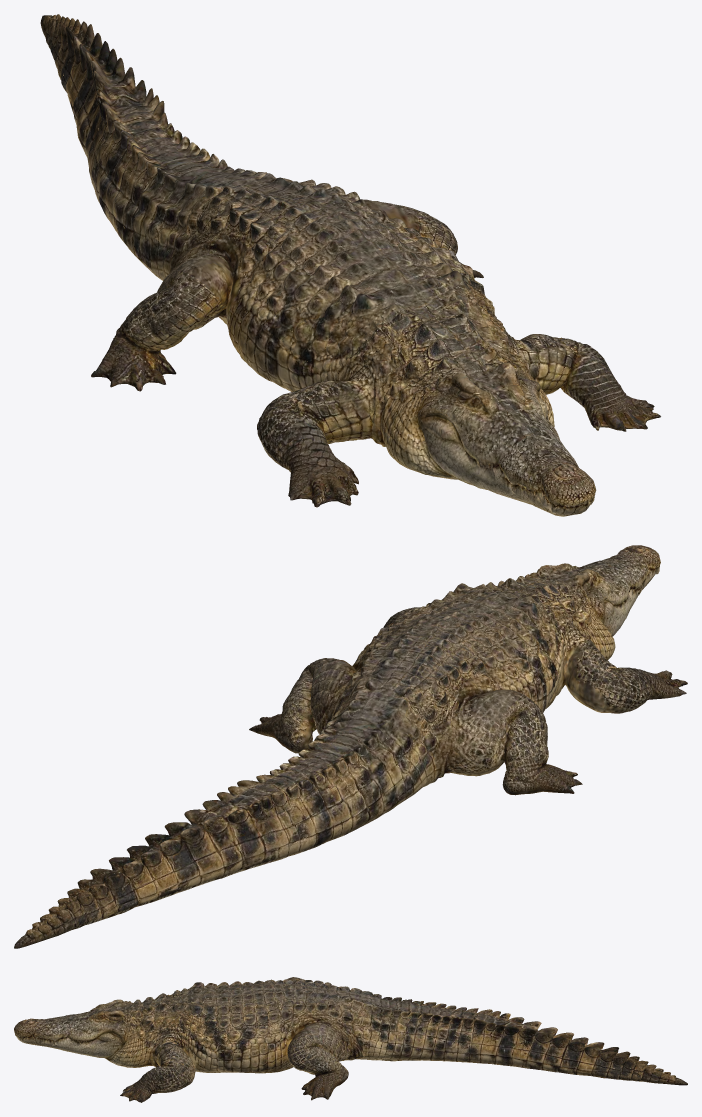
File: crocodile.glb
3 renders of one model, top to bottom at view 1: azimuth 30°, elevation 25°; view 2: azimuth 150°, elevation 25°; view 3: azimuth 270°, elevation 25°, orthographic. The views are drawn at different scales.
Parts seen in each view (by area): view 1: crocodile; view 2: crocodile; view 3: crocodile.
Part boxes in pixels (bbox=[...]): crocodile: bbox=[40, 14, 660, 516]; crocodile: bbox=[14, 545, 687, 948]; crocodile: bbox=[14, 977, 687, 1102].
Size of the model in its own units: 1.53 by 0.5373 by 4.5.
1 material, 1 textured.
